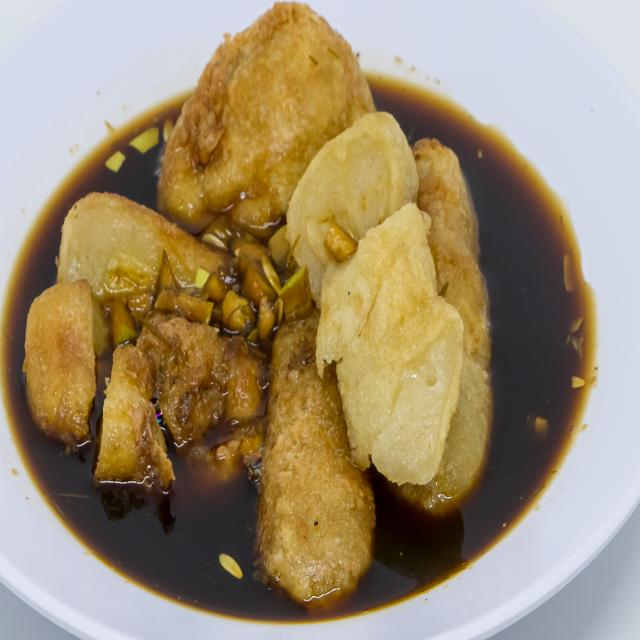Pempek-Palembang: (19, 8, 498, 621)
